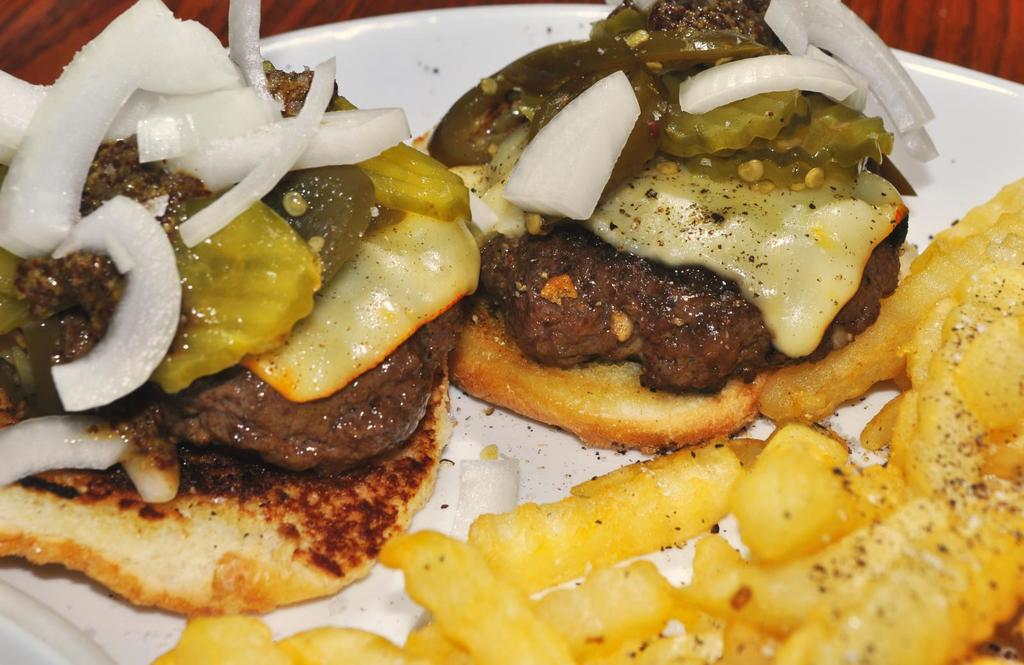French fries: (134, 168, 1023, 664)
